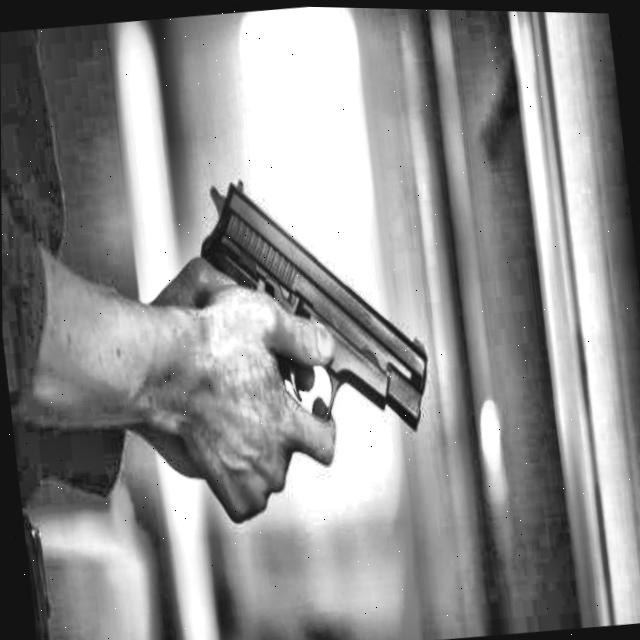pistol: (174, 166, 432, 468)
